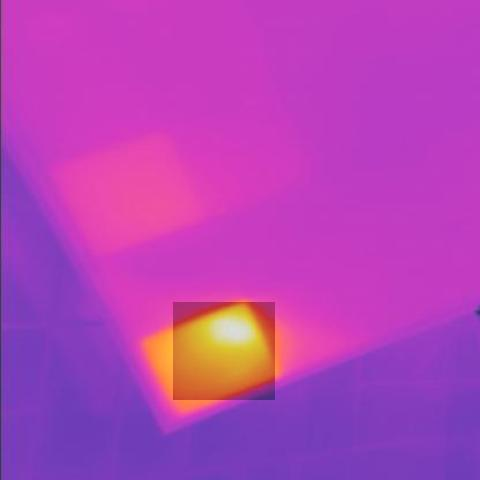fault: (173, 302, 275, 400)
